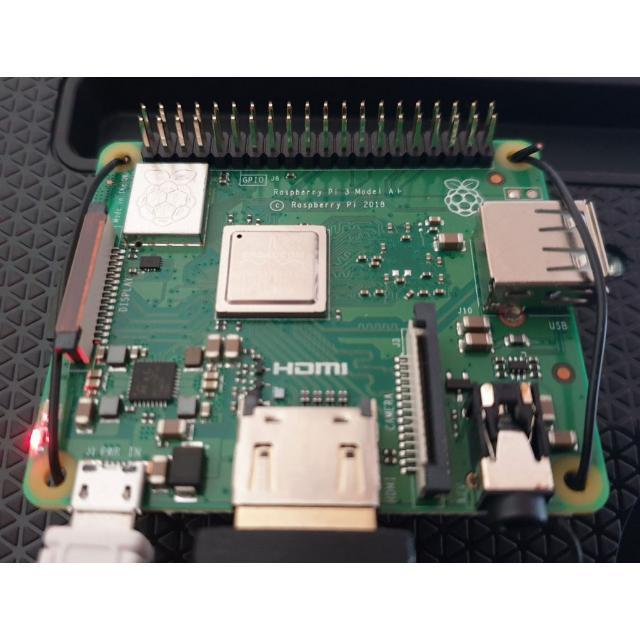Raspberry-Pi-3-A-: (24, 101, 623, 530)
